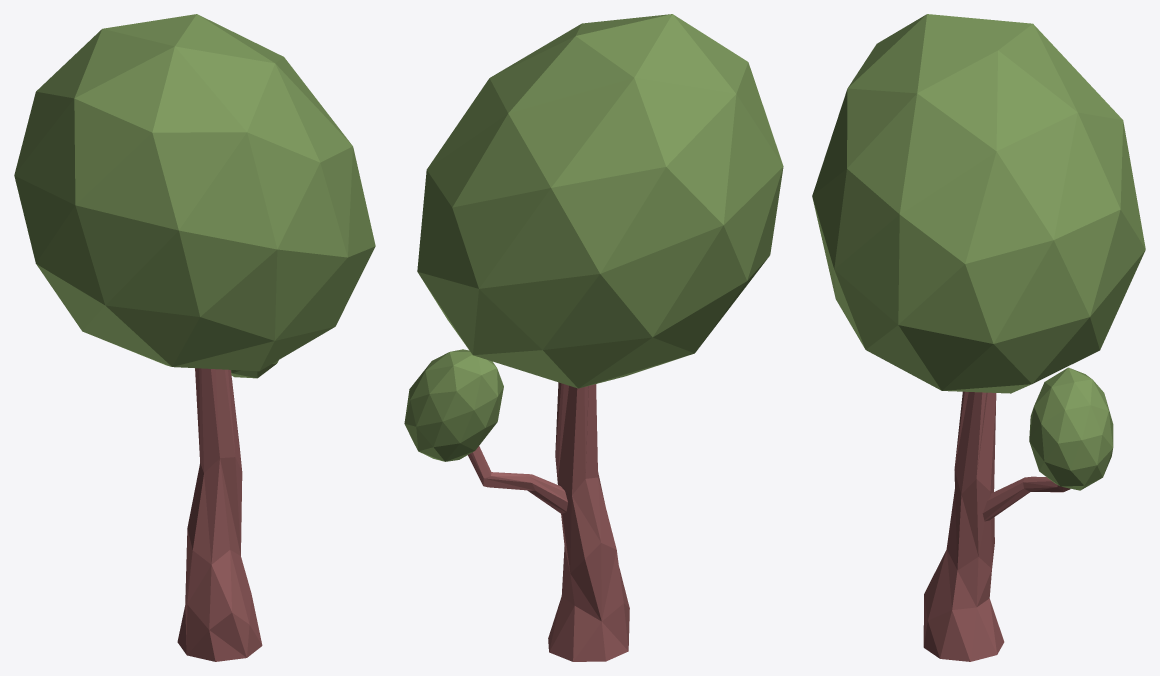
File: Poplar Tree_5.fbx
3 views of the same model, side by side, from view 1: azimuth 30°, elevation 25°; view 2: azimuth 150°, elevation 25°; view 3: azimuth 270°, elevation 25° (orthographic). The views are drawn at different scales.
Parts seen in each view (by area): view 1: Poplar Tree_5; view 2: Poplar Tree_5; view 3: Poplar Tree_5.
Boxes of the visible parts, box(x1,y1,x2,y2) form: Poplar Tree_5: box(14, 14, 375, 661); Poplar Tree_5: box(404, 14, 783, 661); Poplar Tree_5: box(812, 14, 1145, 661).
Size of the model in its own units: 3.22 by 6.18 by 3.11.
